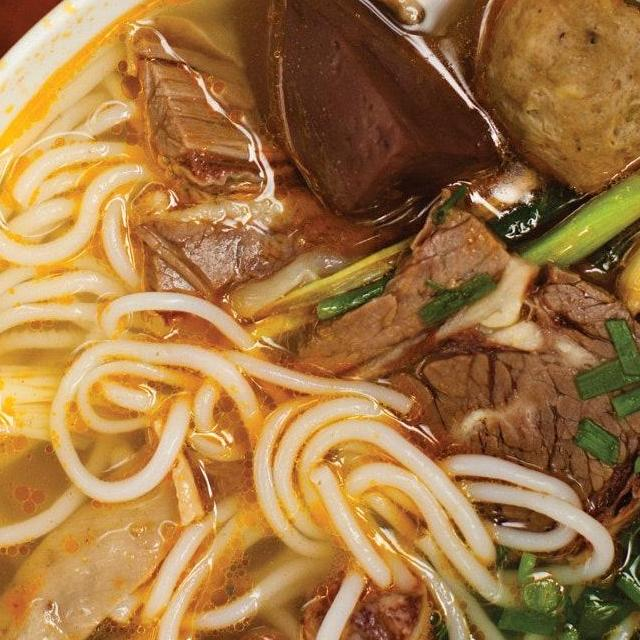bun: (0, 33, 244, 633), (233, 346, 619, 640), (2, 471, 292, 640)
bun bo: (0, 0, 640, 640)
thit bo: (270, 172, 640, 586), (130, 154, 418, 328), (116, 12, 330, 220)
